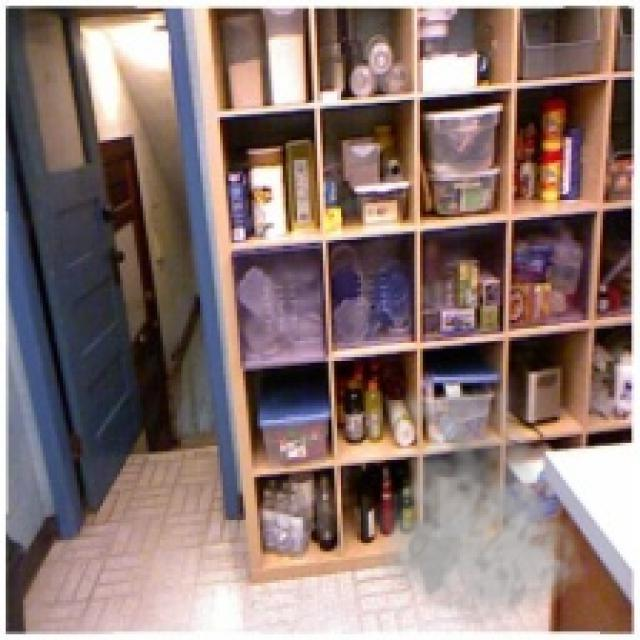Smoke: (361, 368, 588, 628)
